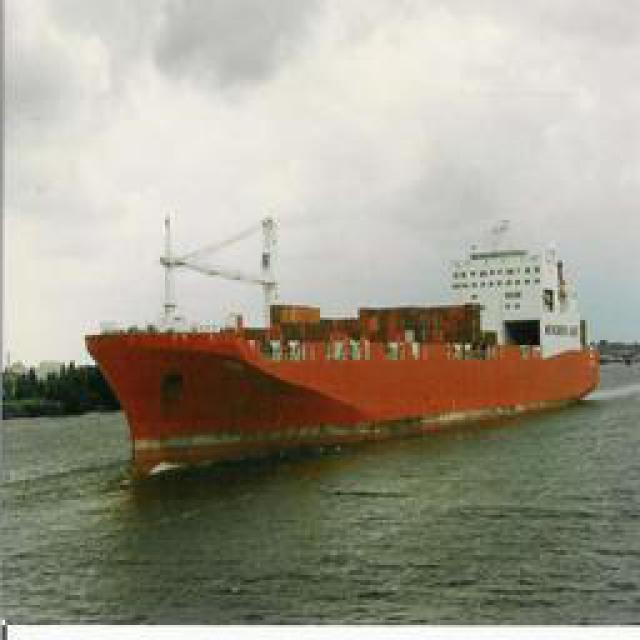Ship: (91, 298, 579, 483)
